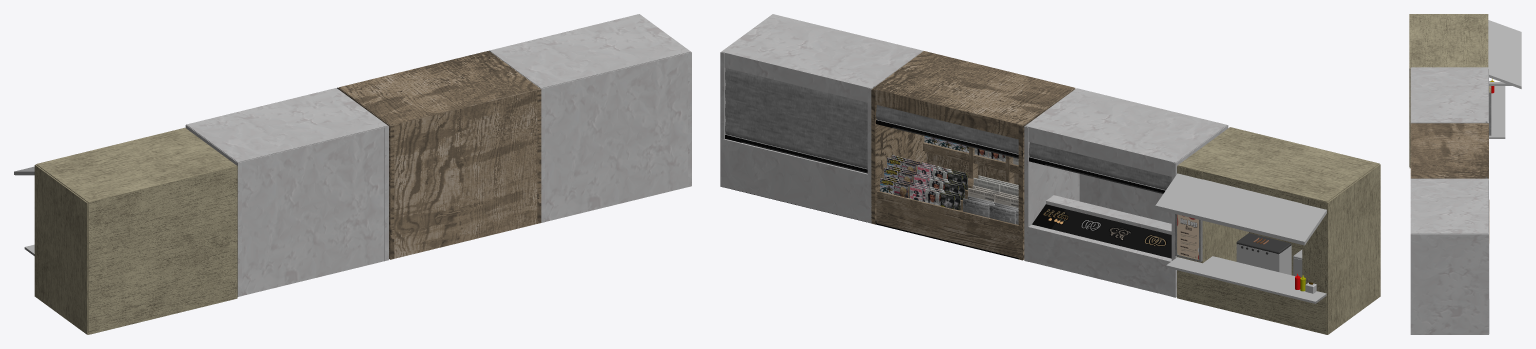
File: shop5.fbx
The picture shows the model from 3 angles, left to right: view 1: azimuth 30°, elevation 25°; view 2: azimuth 150°, elevation 25°; view 3: azimuth 270°, elevation 25°; orthographic projection. The views are drawn at different scales.
Visible parts, largest first — view 1: pCube190; view 2: pCube190; view 3: pCube190.
Part boxes in pixels (x1=…): pCube190: x1=14, y1=14, x2=691, y2=334; pCube190: x1=720, y1=14, x2=1380, y2=334; pCube190: x1=1409, y1=14, x2=1521, y2=334.
Size of the model in its own units: 19.32 by 4.16 by 4.12.
24 materials, 15 textured.
